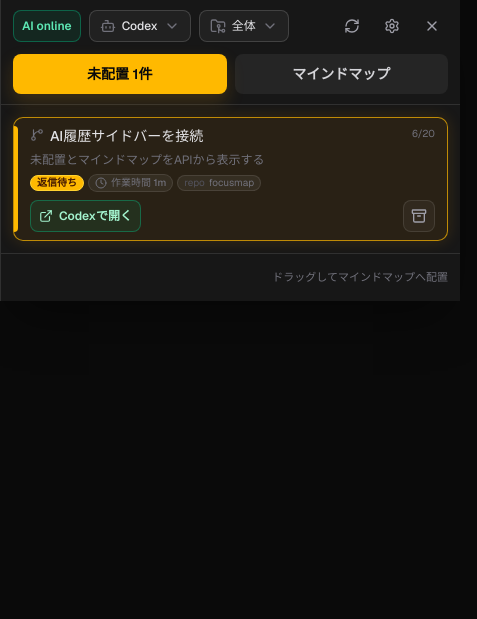
Test case: CodexChatImportSidebar › opens details through the AI history detail contract
Step 1. Click the button with test id "codex-chat-import-row-history-1" → (230, 179), box x1=13 y1=117 x2=448 y2=241
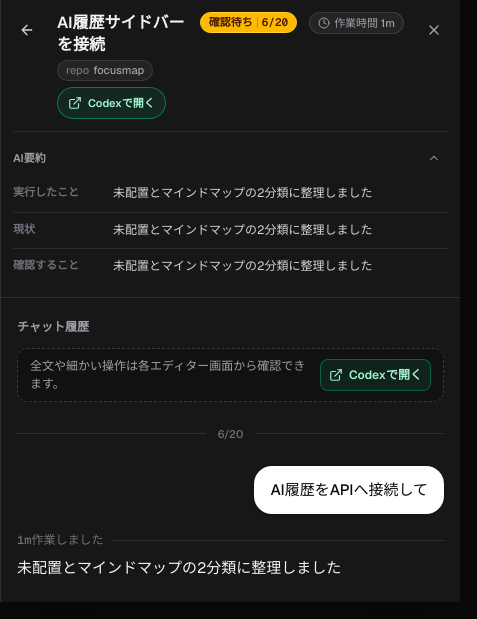
Result: the text "未配置とマインドマップの2分類に整理しました" next to "実行したこと" is shown at x1=113 y1=185 x2=372 y2=201
Result: the button named "一覧へ戻る" is shown at x1=9 y1=12 x2=45 y2=48
